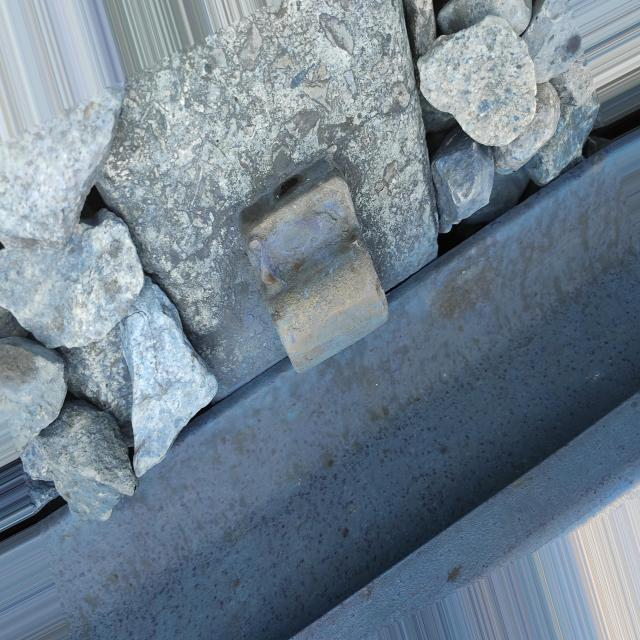Missing Fastener: (192, 116, 412, 399)
